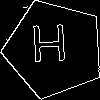H: (29, 24, 69, 72)
